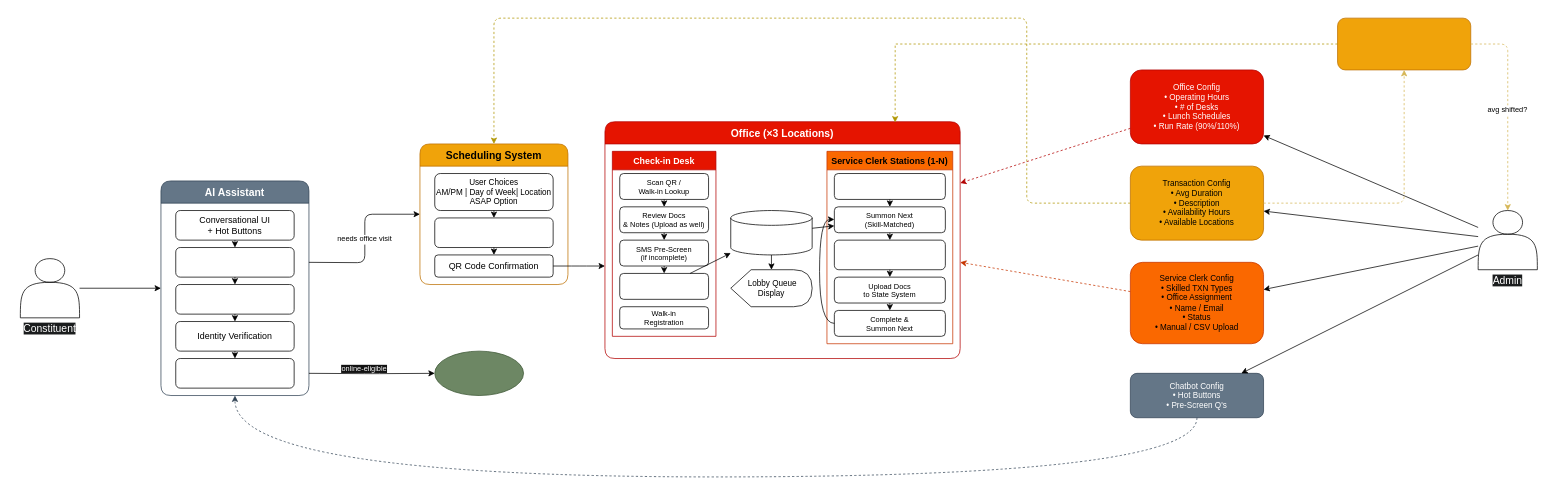
Image size: 1553x490. Some labels were removed from this diagram. The shapes that lost their labels are listed below. From the top down, each one's centre as x and y in pixels, then its label:
At point 1404,43: "Duration Engine Monitor Actual Durations Recommend Adjustments".
At point 889,186: "Login → Office / Station #".
At point 493,232: "Schedule Engine".
At point 771,232: "Queue Regular | Priority".
At point 234,262: "Pre-Screen Questions".
At point 889,254: "Process TXN Vision | Photo | Payment".
At point 234,299: "Document Upload".
At point 664,286: "Assign to Queue Regular / Priority".
At point 234,373: "Eligibility Check".
At point 479,373: "Completed Online".
